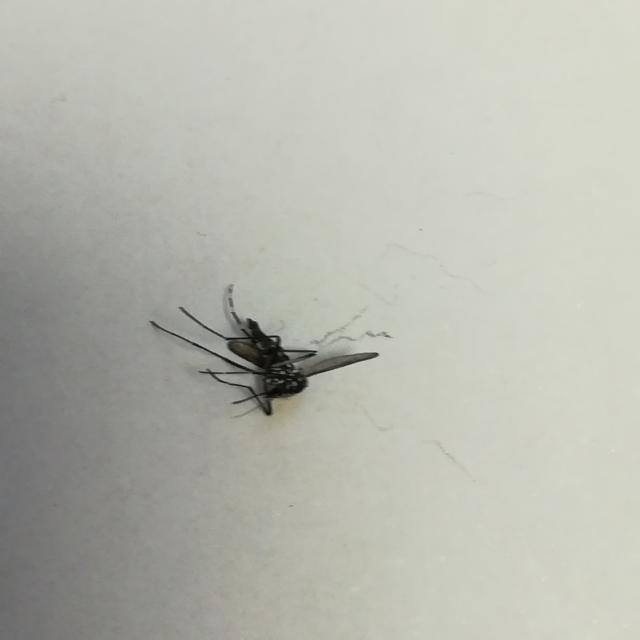albopictus: (141, 274, 393, 421)
